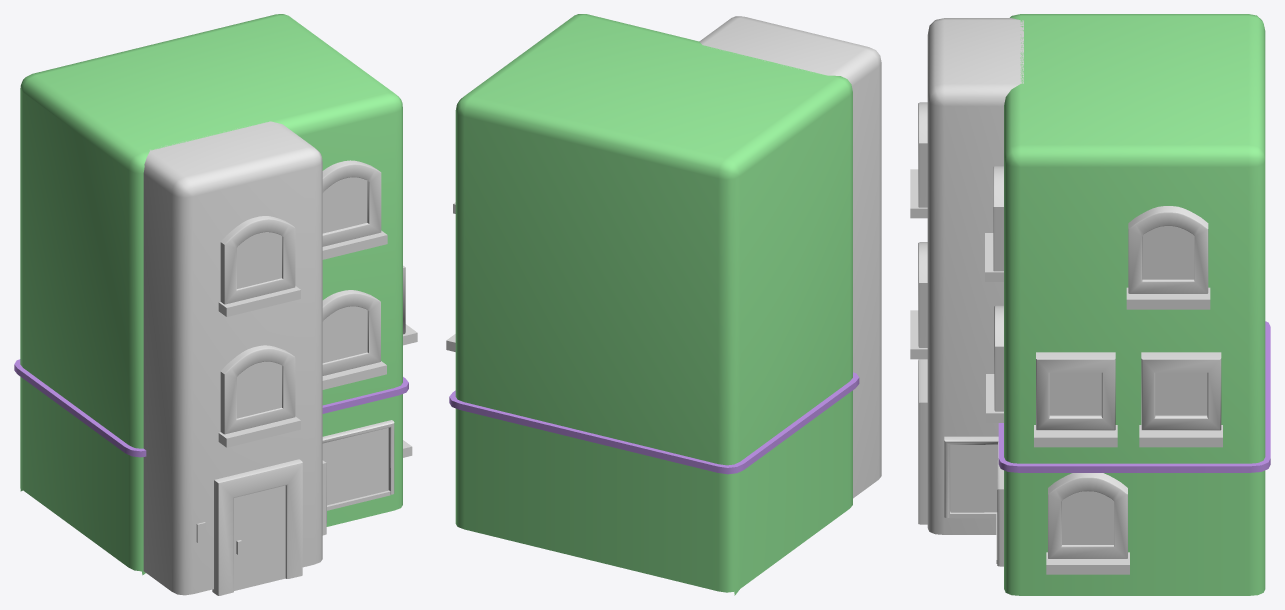
File: appartements2.FBX
The picture shows the model from 3 angles, left to right: view 1: azimuth 30°, elevation 25°; view 2: azimuth 150°, elevation 25°; view 3: azimuth 270°, elevation 25°; orthographic projection. The views are drawn at different scales.
Parts seen in each view (by area): view 1: Batiment003, Batiment004, PorteCadre003, Porte003, Box002, FenetreCadre019, FenetreCadre018, FenetreCadre017, FenetreCadre020, fenetre027, fenetre026, fenetre029 (+6 smaller); view 2: Batiment003, Batiment004; view 3: Batiment003, Batiment004, FenetreCadreCarré005, FenetreCadreCarré006, FenetreCadre016, FenetreCadre015, Box002, fenetre024, fenetre025, fenetre022, fenetre023, PorteCadre003 (+13 smaller).
Boxes of the visible parts, <box> form: Batiment003: <box>14,14,408,575</box>; Batiment004: <box>143,121,322,595</box>; PorteCadre003: <box>212,459,302,595</box>; Porte003: <box>234,485,285,590</box>; Box002: <box>322,428,388,505</box>; FenetreCadre019: <box>220,345,295,434</box>; FenetreCadre018: <box>220,216,295,304</box>; FenetreCadre017: <box>322,160,381,246</box>; FenetreCadre020: <box>322,290,380,375</box>; fenetre027: <box>236,361,281,418</box>; fenetre026: <box>322,306,367,363</box>; fenetre029: <box>236,232,281,288</box>; Batiment003: <box>449,14,859,595</box>; Batiment004: <box>699,16,881,498</box>; Batiment003: <box>998,14,1270,595</box>; Batiment004: <box>927,18,1023,534</box>; FenetreCadreCarré005: <box>1141,352,1221,430</box>; FenetreCadreCarré006: <box>1036,352,1115,430</box>; FenetreCadre016: <box>1128,206,1208,293</box>; FenetreCadre015: <box>1048,473,1127,558</box>; Box002: <box>950,444,997,512</box>; fenetre024: <box>1142,226,1194,279</box>; fenetre025: <box>1062,491,1113,544</box>; fenetre022: <box>1155,372,1207,415</box>; fenetre023: <box>1049,372,1101,415</box>; PorteCadre003: <box>918,359,927,524</box>.
Size of the model in its own units: 17.41 by 23.08 by 16.8.
